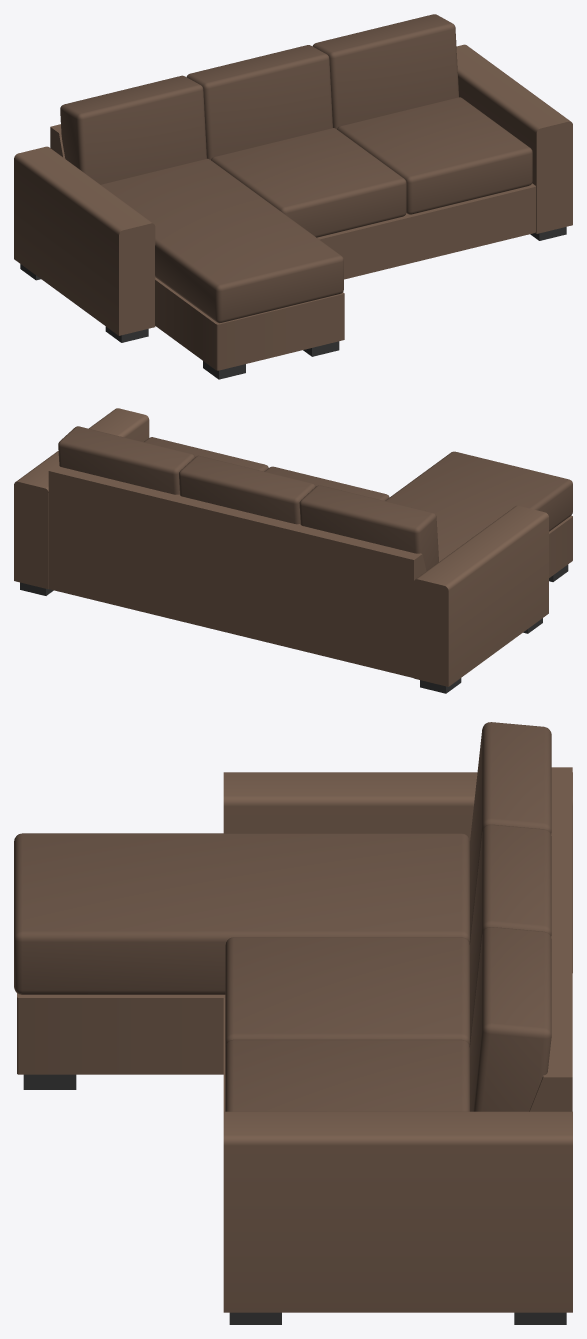
Rendered from Sofa4_C3.fbx.
3 renders of one model, top to bottom at view 1: azimuth 30°, elevation 25°; view 2: azimuth 150°, elevation 25°; view 3: azimuth 270°, elevation 25°, orthographic. The views are drawn at different scales.
Parts seen in each view (by area): view 1: Sofa4_C3; view 2: Sofa4_C3; view 3: Sofa4_C3.
Part boxes in pixels (x1,y1,x2,y2): Sofa4_C3: (14,14,572,379); Sofa4_C3: (14,408,572,693); Sofa4_C3: (14,722,572,1324).
Bounding box in the file's own units: 250 × 85.61 × 160.
